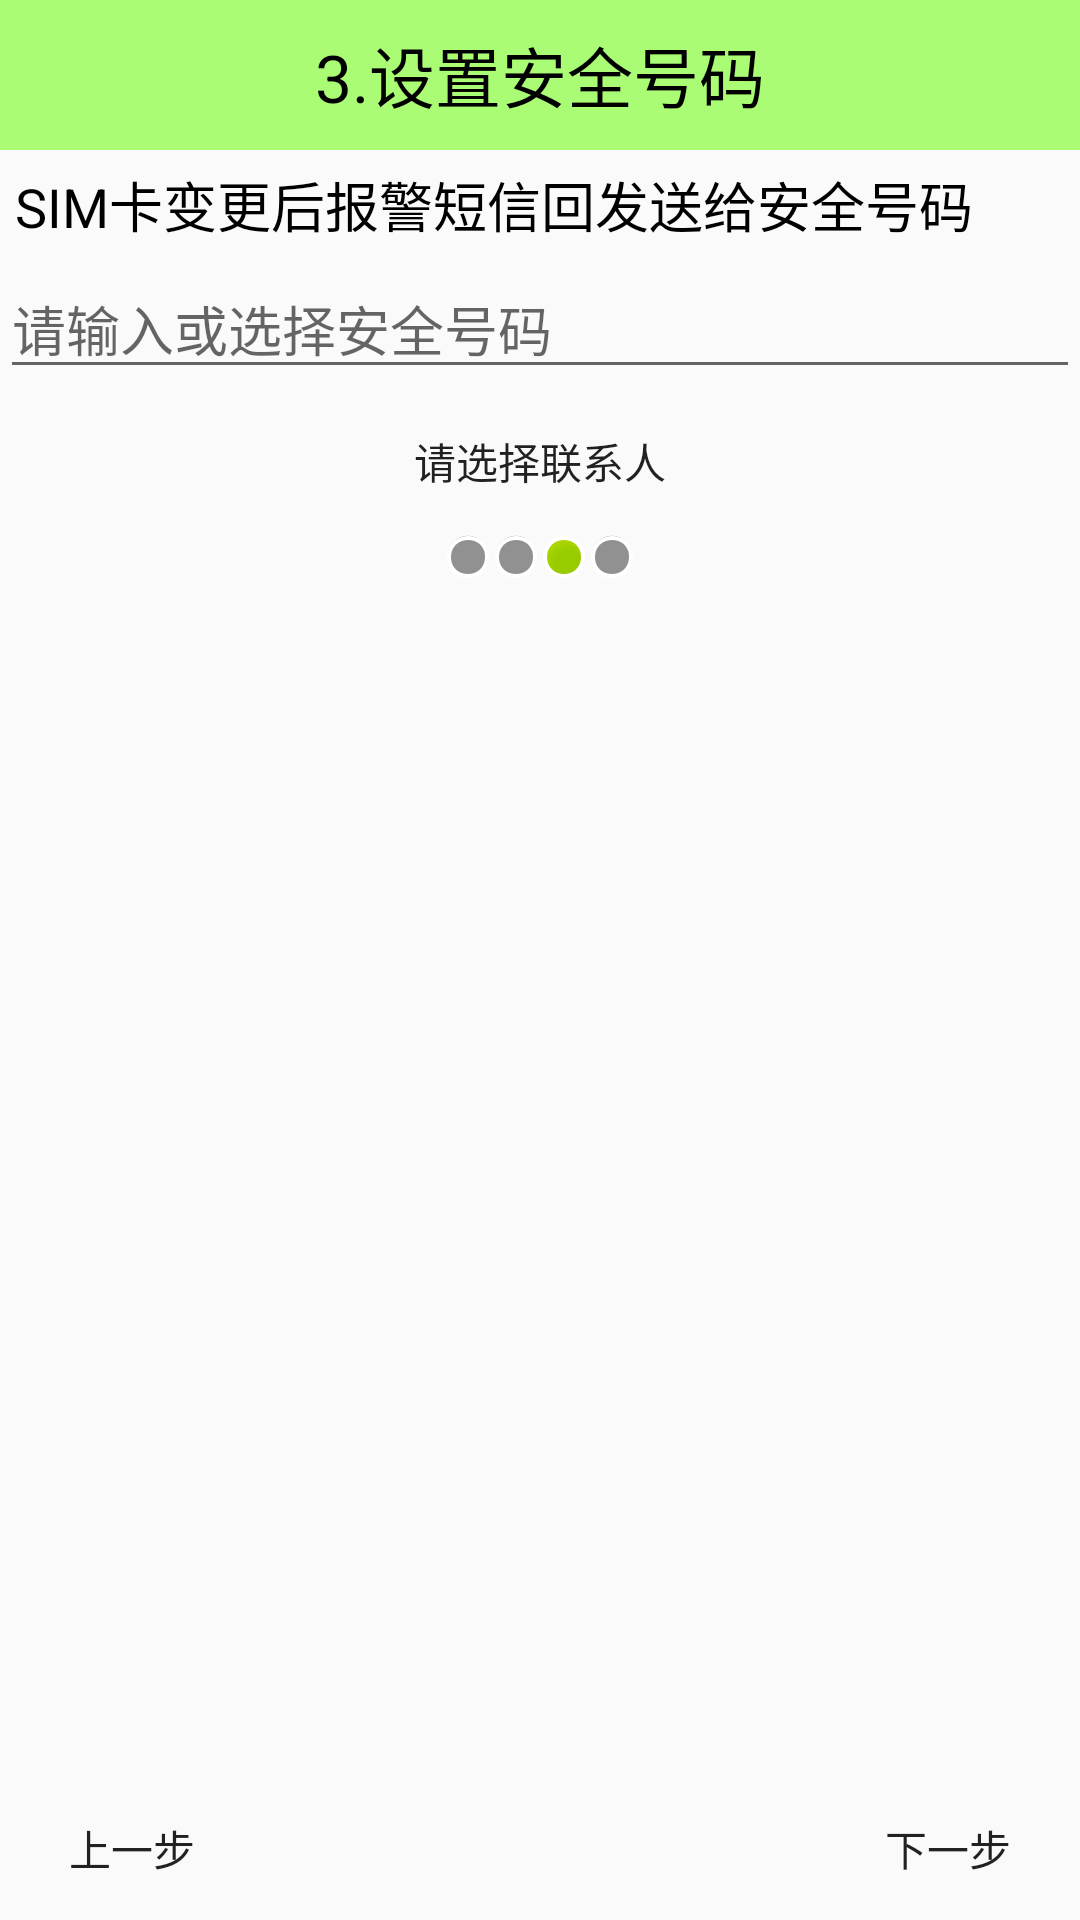

Icon click points for this 1080px×1920px phone screenshot, format [x,y]:
presence invisible: [468,555], [516,555], [612,555]
presence online: [564,557]
